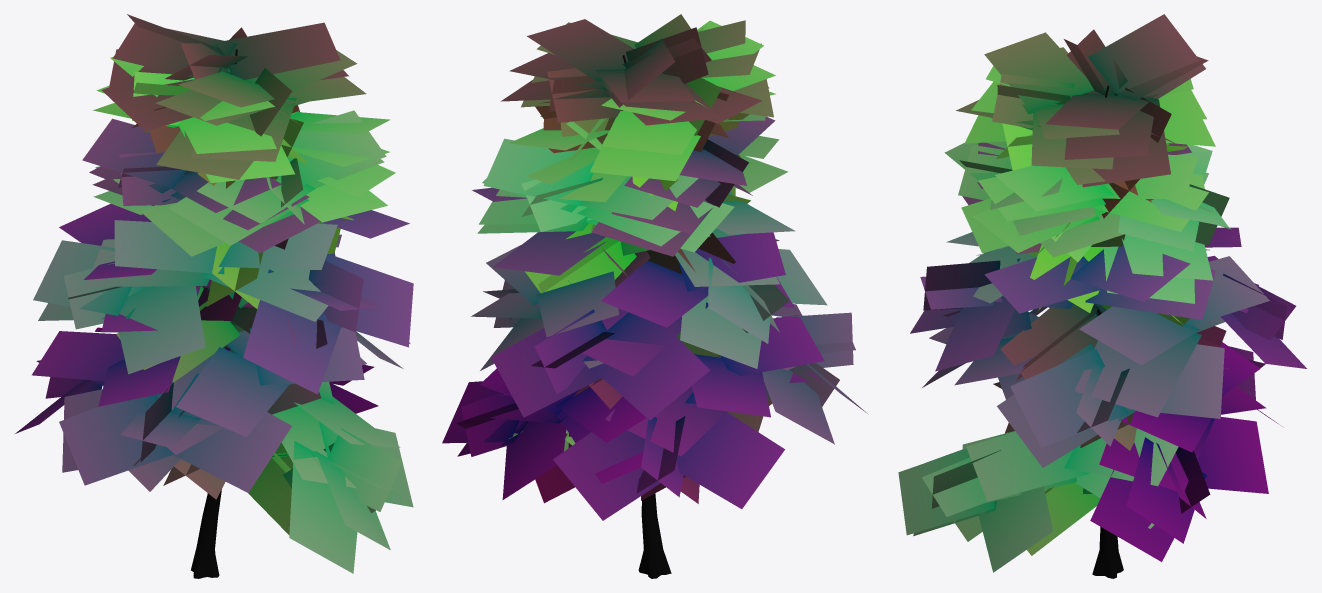
File: Tree_1_5.fbx
The picture shows the model from 3 angles, left to right: view 1: azimuth 30°, elevation 25°; view 2: azimuth 150°, elevation 25°; view 3: azimuth 270°, elevation 25°; orthographic projection. The views are drawn at different scales.
Visible parts, largest first — view 1: _5; view 2: _5; view 3: _5.
Part boxes in pixels (x1,y1,x2,y2): _5: (15,14,413,578); _5: (442,14,868,578); _5: (898,14,1306,578).
Size of the model in its own units: 1123 by 1694 by 1175.
